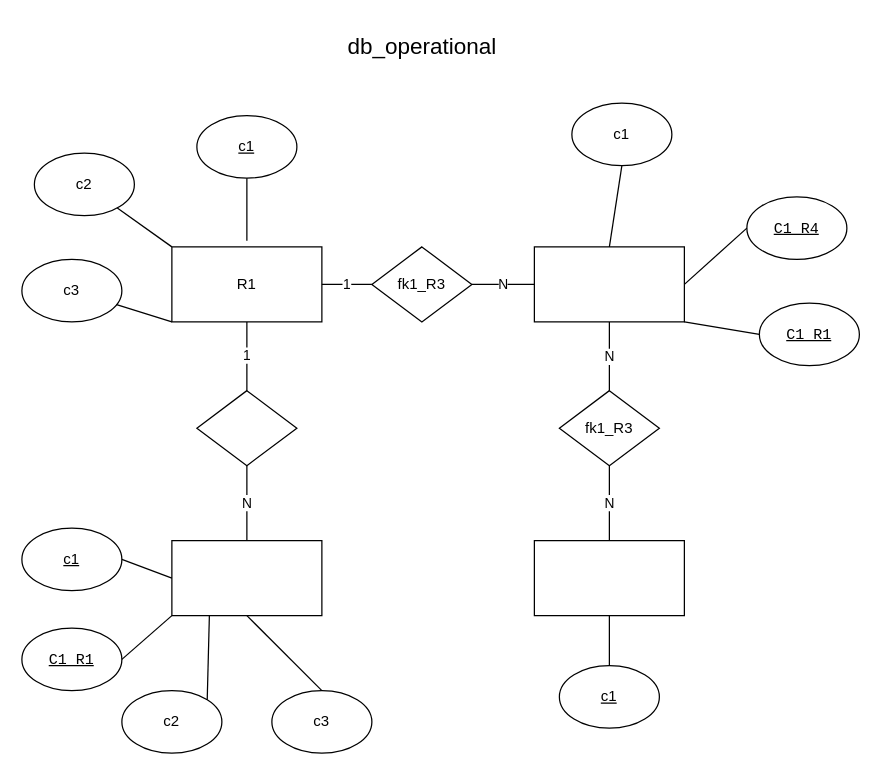
The diagram is 881 pixels wide and 775 high, and some of its shapes have lost their labels. The shapes that lost their labels are listed below. From the top down, each one's box as (x1, y1, x2, y2) in pixels, then its label:
(533, 246, 684, 322): R3
(196, 389, 297, 466): fk1_R2
(171, 539, 322, 616): R2
(533, 539, 684, 616): R4
